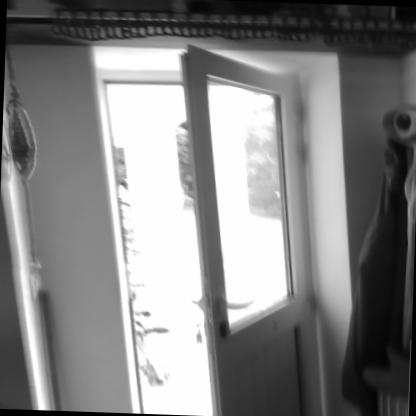semi: (72, 36, 327, 416)
